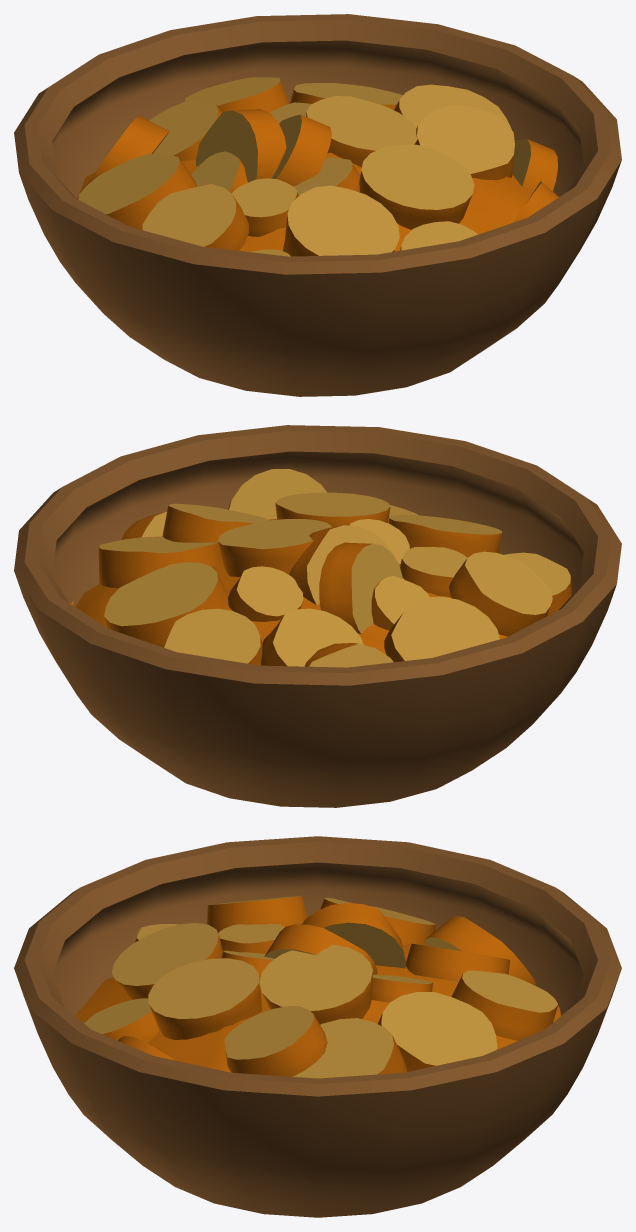
The model's file is mesh_carrot_bowl_full.fbx.
3 views of the same model, one above another, from view 1: azimuth 30°, elevation 25°; view 2: azimuth 150°, elevation 25°; view 3: azimuth 270°, elevation 25° (orthographic).
Parts seen in each view (by area): view 1: mesh_carrot_bowl_empty, mesh_carrot_bowl_contents; view 2: mesh_carrot_bowl_empty, mesh_carrot_bowl_contents; view 3: mesh_carrot_bowl_empty, mesh_carrot_bowl_contents.
Boxes of the visible parts, x1,y1,x2,y2 form: mesh_carrot_bowl_empty: (14, 14, 621, 396); mesh_carrot_bowl_contents: (77, 77, 558, 256); mesh_carrot_bowl_empty: (14, 425, 621, 807); mesh_carrot_bowl_contents: (71, 469, 571, 667); mesh_carrot_bowl_empty: (14, 836, 621, 1217); mesh_carrot_bowl_contents: (75, 896, 560, 1078).
Size of the model in its own units: 0.2166 by 0.0829 by 0.2167.
